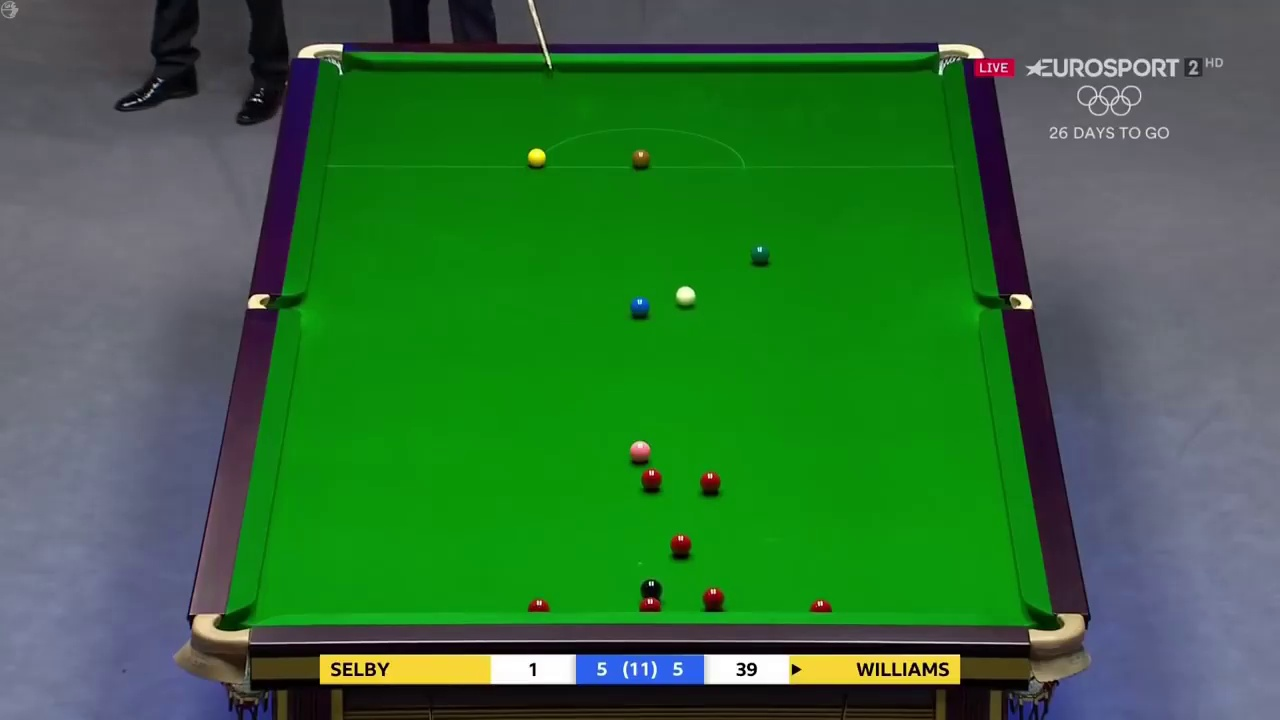ball: (671, 286, 695, 310), (668, 534, 692, 558), (626, 441, 651, 464), (640, 469, 663, 491), (629, 296, 650, 318), (749, 245, 769, 267), (702, 589, 723, 609), (524, 147, 546, 166), (700, 471, 720, 491), (631, 151, 650, 170)
